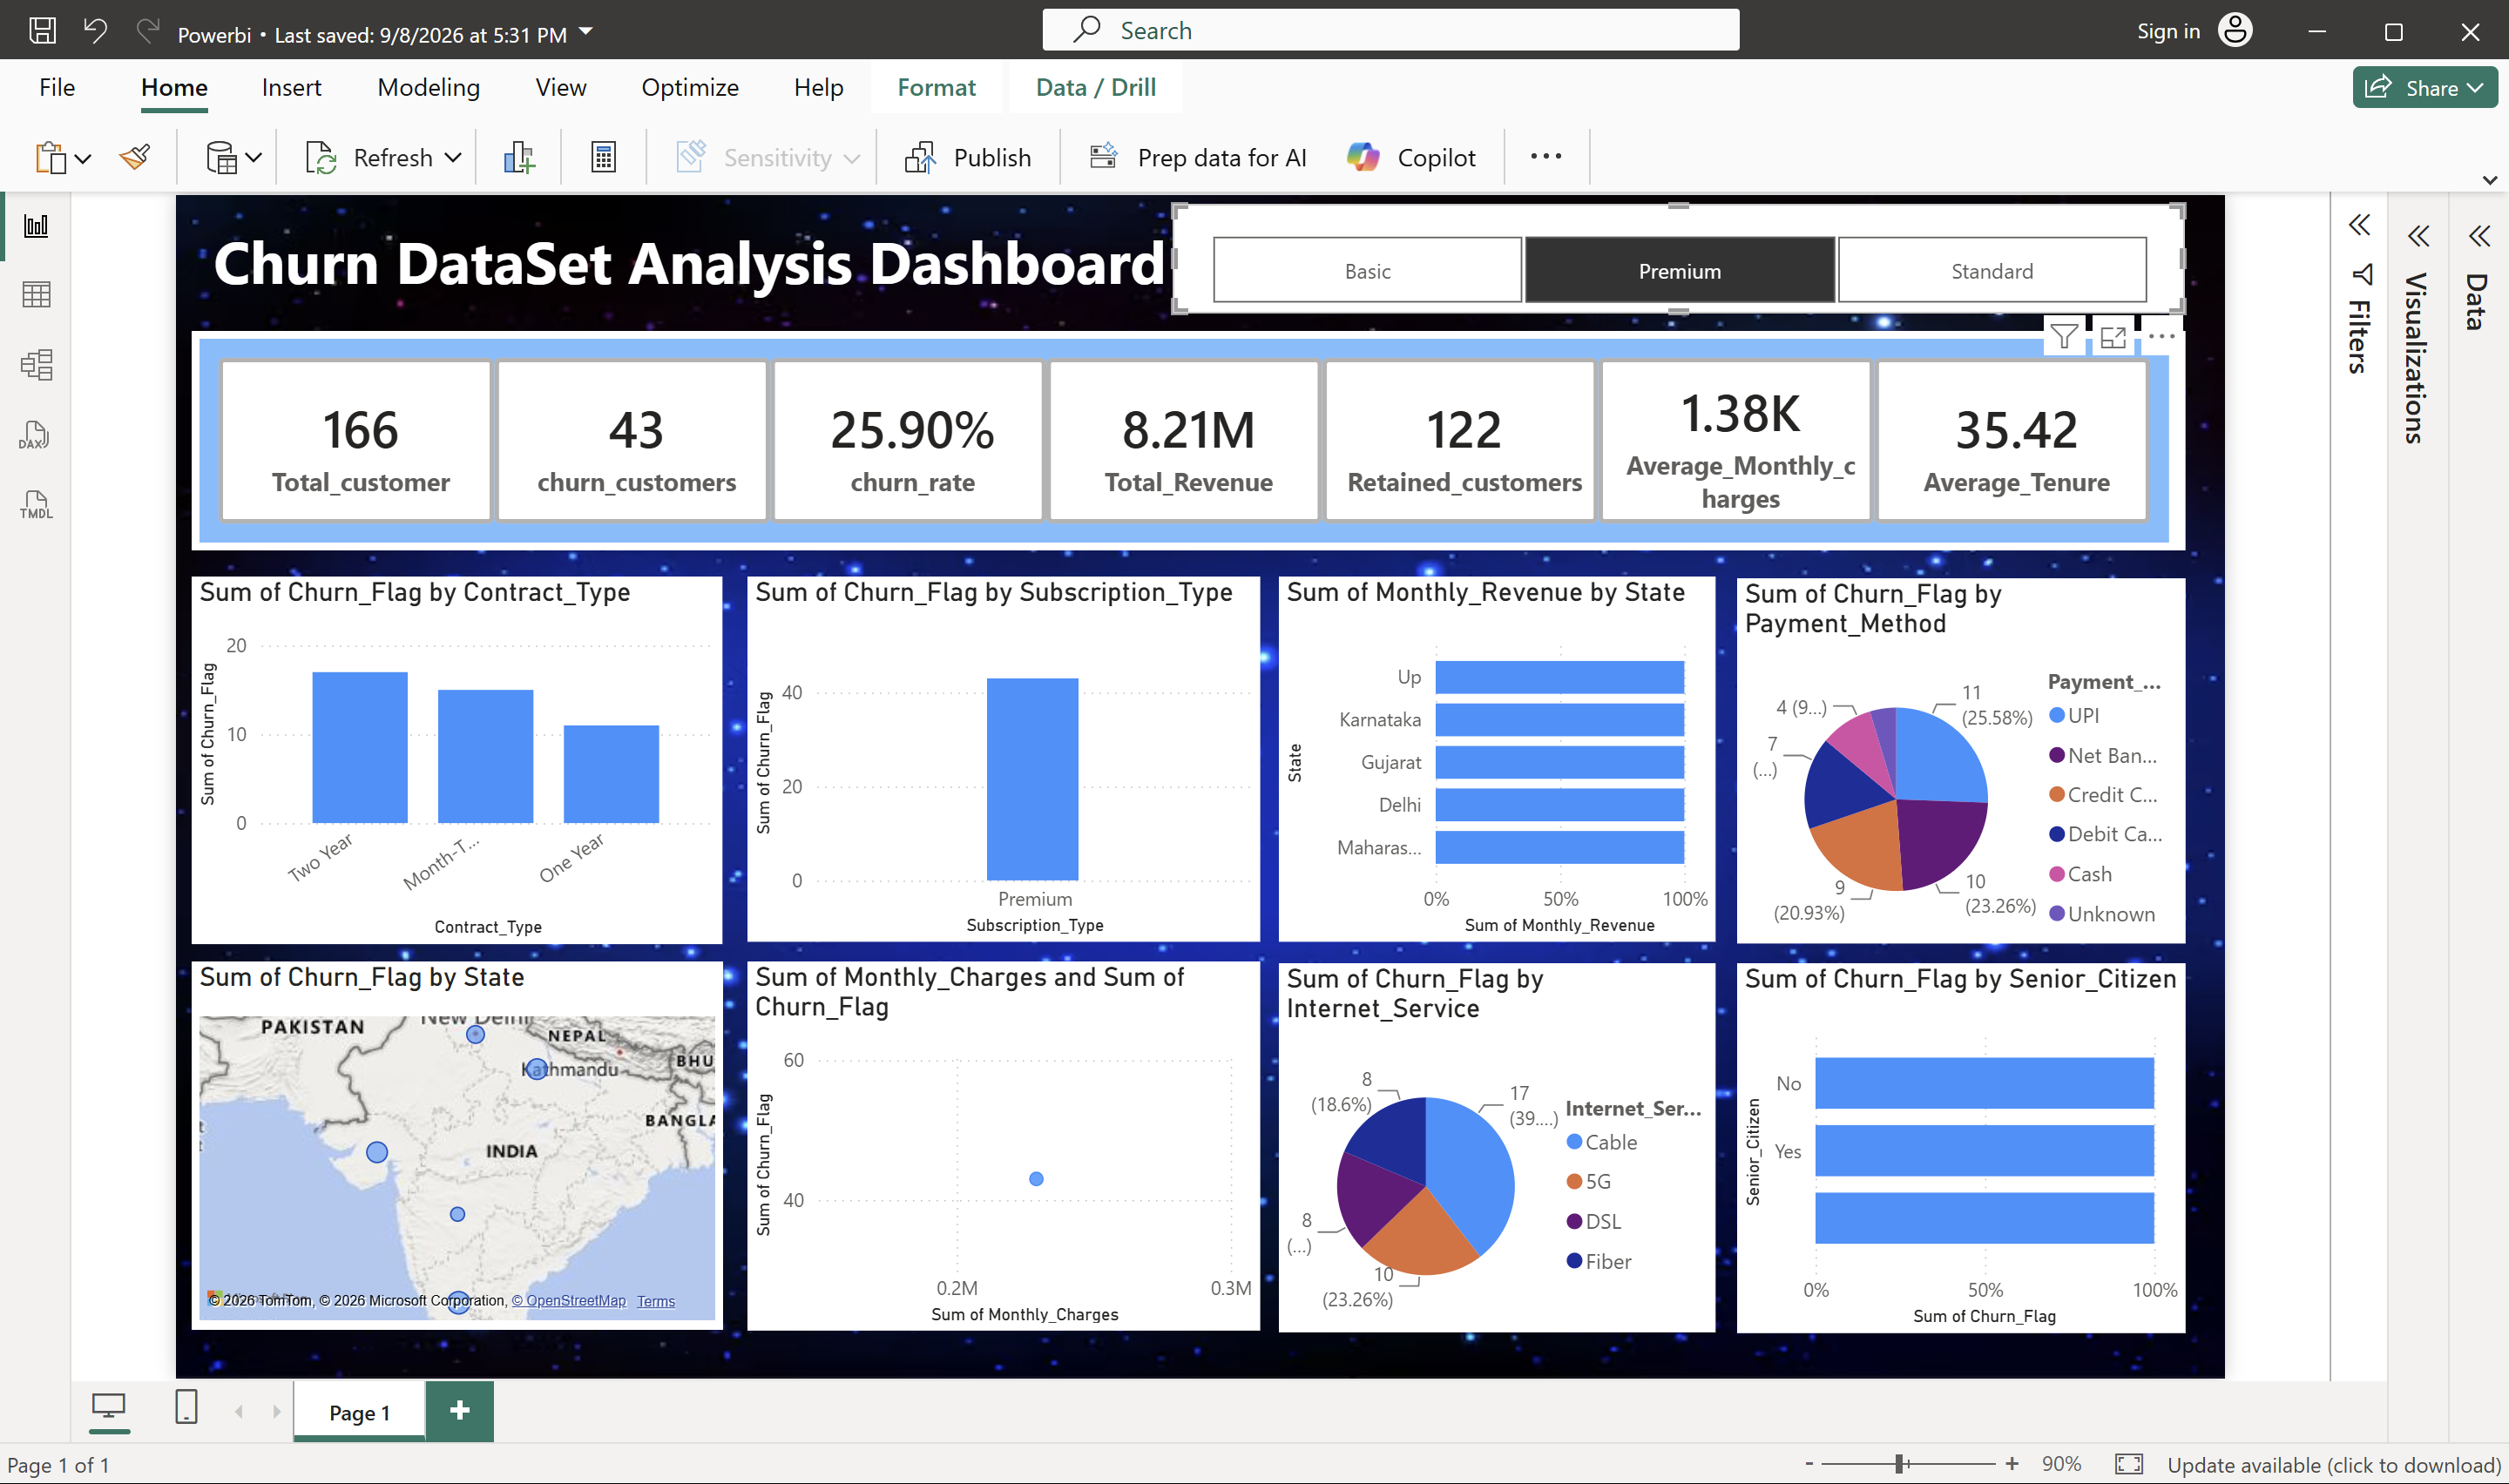

What the dashboard file says about the page in this screenshot:
{"tool":"powerbi","page":{"name":"Page 1","canvas":[1307,755],"ordinal":0},"visuals":[{"type":"cardVisual","fields":{"Data":["Dax_Measure.Total_customer","Dax_Measure.churn_customers","Dax_Measure.churn_rate","Dax_Measure.Total_Revenue","Dax_Measure.Retained_customers","Dax_Measure.Average_Monthly_charges","Dax_Measure.Average_Tenure"]},"box":[10,87.1,1271.4,140],"z":0},{"type":"textbox","box":[10,11.4,635.7,64.3],"z":1000},{"type":"columnChart","fields":{"Y":["Sum(Clean_Churn_Data.Churn_Flag)"],"Category":["Clean_Churn_Data.Contract_Type"]},"box":[10,242.9,338.6,234.3],"z":2000},{"type":"columnChart","fields":{"Y":["Sum(Clean_Churn_Data.Churn_Flag)"],"Category":["Clean_Churn_Data.Subscription_Type"]},"box":[364.3,242.9,327.1,232.9],"z":3000},{"type":"map","fields":{"Category":["Clean_Churn_Data.State"],"Size":["Sum(Clean_Churn_Data.Churn_Flag)"]},"box":[10,488.6,338.6,234.3],"z":4000},{"type":"scatterChart","fields":{"X":["Sum(Clean_Churn_Data.Monthly_Charges)"],"Y":["Sum(Clean_Churn_Data.Churn_Flag)"]},"box":[364.3,488.6,327.1,235.7],"z":5000},{"type":"hundredPercentStackedBarChart","fields":{"Y":["Sum(Clean_Churn_Data.Monthly_Revenue)"],"Category":["Clean_Churn_Data.State"]},"box":[702.9,242.9,278.6,232.9],"z":6000},{"type":"pieChart","fields":{"Category":["Clean_Churn_Data.Internet_Service"],"Y":["Sum(Clean_Churn_Data.Churn_Flag)"]},"box":[702.9,490,278.6,235.7],"z":7000},{"type":"pieChart","fields":{"Y":["Sum(Clean_Churn_Data.Churn_Flag)"],"Category":["Clean_Churn_Data.Payment_Method"]},"box":[995.7,244.3,286,233],"z":8000},{"type":"hundredPercentStackedBarChart","fields":{"Category":["Clean_Churn_Data.Senior_Citizen"],"Y":["Sum(Clean_Churn_Data.Churn_Flag)"]},"box":[996,490,286,236],"z":8001},{"type":"slicer","fields":{"Values":["Clean_Churn_Data.Subscription_Type"]},"box":[635.7,5.7,645.7,70],"z":8002}]}

Visuals, with their boxes on the page's 1307x755 design canvas (x1, y1, x2, y2). These are canvas units, not pixel positions in the 2509x1484 screenshot, which may show the page scaled, cropped or inside an application window:
cardVisual - Dax_Measure.Total_customer x Dax_Measure.churn_customers: x1=10 y1=87 x2=1281 y2=227
textbox: x1=10 y1=11 x2=646 y2=76
columnChart - Sum(Clean_Churn_Data.Churn_Flag) x Clean_Churn_Data.Contract_Type: x1=10 y1=243 x2=349 y2=477
columnChart - Sum(Clean_Churn_Data.Churn_Flag) x Clean_Churn_Data.Subscription_Type: x1=364 y1=243 x2=691 y2=476
map - Clean_Churn_Data.State x Sum(Clean_Churn_Data.Churn_Flag): x1=10 y1=489 x2=349 y2=723
scatterChart - Sum(Clean_Churn_Data.Monthly_Charges) x Sum(Clean_Churn_Data.Churn_Flag): x1=364 y1=489 x2=691 y2=724
hundredPercentStackedBarChart - Sum(Clean_Churn_Data.Monthly_Revenue) x Clean_Churn_Data.State: x1=703 y1=243 x2=982 y2=476
pieChart - Clean_Churn_Data.Internet_Service x Sum(Clean_Churn_Data.Churn_Flag): x1=703 y1=490 x2=982 y2=726
pieChart - Sum(Clean_Churn_Data.Churn_Flag) x Clean_Churn_Data.Payment_Method: x1=996 y1=244 x2=1282 y2=477
hundredPercentStackedBarChart - Clean_Churn_Data.Senior_Citizen x Sum(Clean_Churn_Data.Churn_Flag): x1=996 y1=490 x2=1282 y2=726
slicer - Clean_Churn_Data.Subscription_Type: x1=636 y1=6 x2=1281 y2=76
